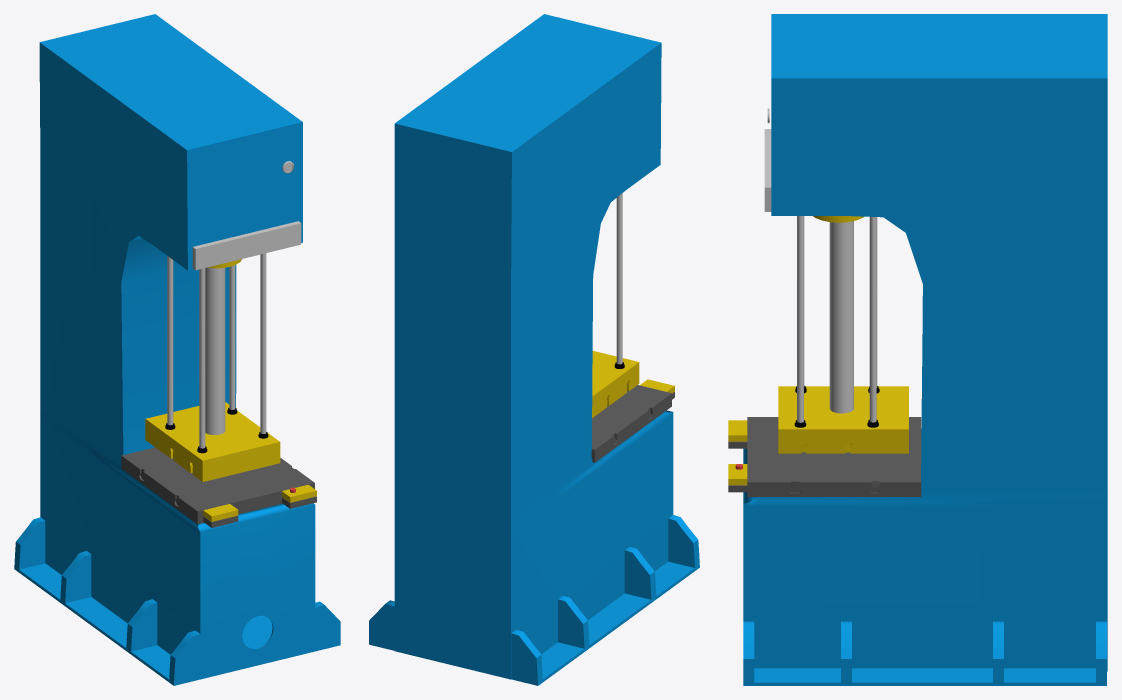
The model's file is puresu.fbx.
3 views of the same model, side by side, from view 1: azimuth 30°, elevation 25°; view 2: azimuth 150°, elevation 25°; view 3: azimuth 270°, elevation 25° (orthographic). The views are drawn at different scales.
Parts seen in each view (by area): view 1: polySurface44, polySurface50, polySurface18, polySurface23, polySurface20, polySurface21, polySurface22, polySurface19; view 2: polySurface44, polySurface50, polySurface18, polySurface21; view 3: polySurface44, polySurface50, polySurface18, polySurface23, polySurface19, polySurface20.
Part boxes in pixels (x1,y1,x2,y2): polySurface44: (14,14,340,685); polySurface50: (121,447,316,527); polySurface18: (145,402,280,481); polySurface23: (205,267,225,434); polySurface20: (258,253,268,438); polySurface21: (197,268,207,453); polySurface22: (165,256,175,429); polySurface19: (227,265,237,414); polySurface44: (369,14,699,685); polySurface50: (591,379,674,462); polySurface18: (592,351,639,417); polySurface21: (614,193,624,368); polySurface44: (743,14,1107,685); polySurface50: (728,417,921,496); polySurface18: (778,386,908,453); polySurface23: (829,221,853,413); polySurface19: (867,217,878,427); polySurface20: (794,216,806,427).
Bounding box in the file's own units: 145 × 431 × 250.
